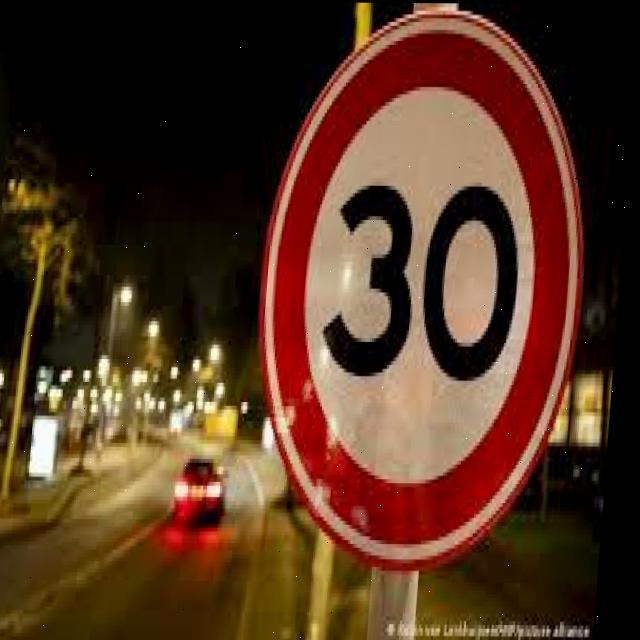Speed limit 30: (245, 6, 607, 572)
